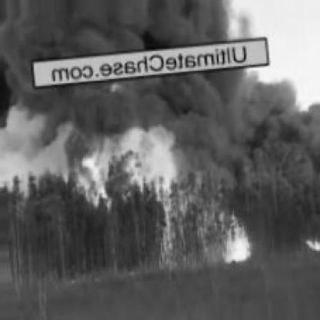Fire: (147, 148, 253, 270), (76, 150, 159, 204)
Smoke: (10, 3, 271, 149)
